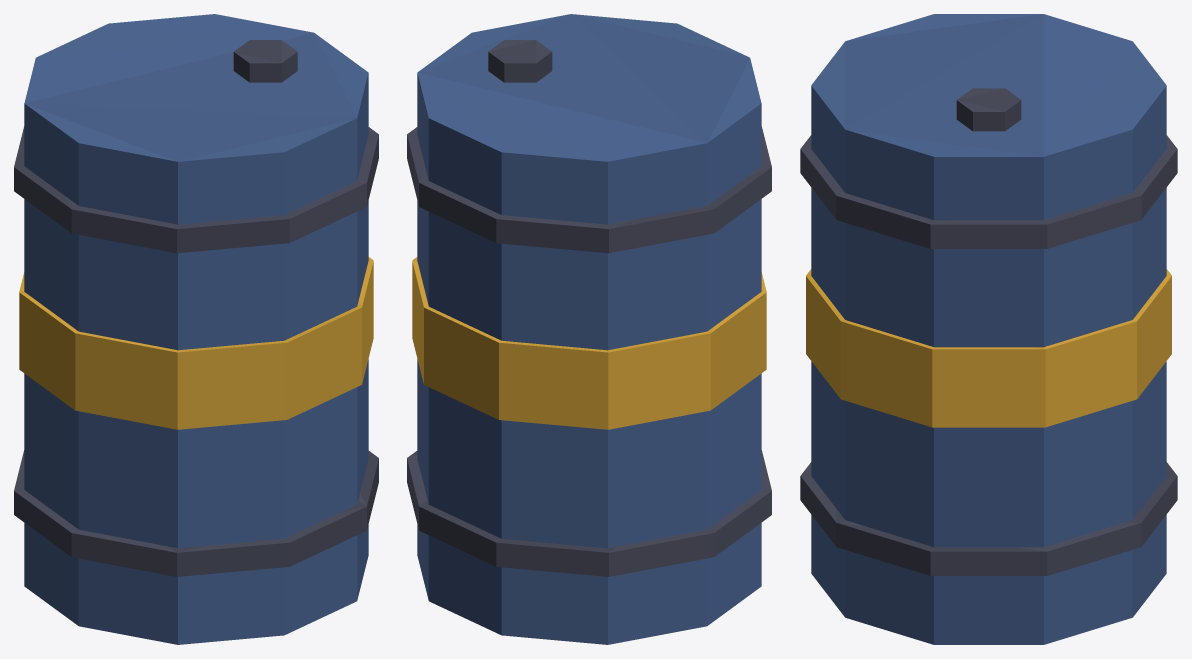
File: Barrel.fbx
3 renders of one model, left to right at view 1: azimuth 30°, elevation 25°; view 2: azimuth 150°, elevation 25°; view 3: azimuth 270°, elevation 25°, orthographic.
Parts seen in each view (by area): view 1: Barrel; view 2: Barrel; view 3: Barrel.
Boxes of the visible parts, bbox=[...] form: Barrel: bbox=[14, 14, 378, 644]; Barrel: bbox=[407, 14, 771, 644]; Barrel: bbox=[800, 14, 1177, 644].
Bounding box in the file's own units: 0.6657 × 1.04 × 0.7.
